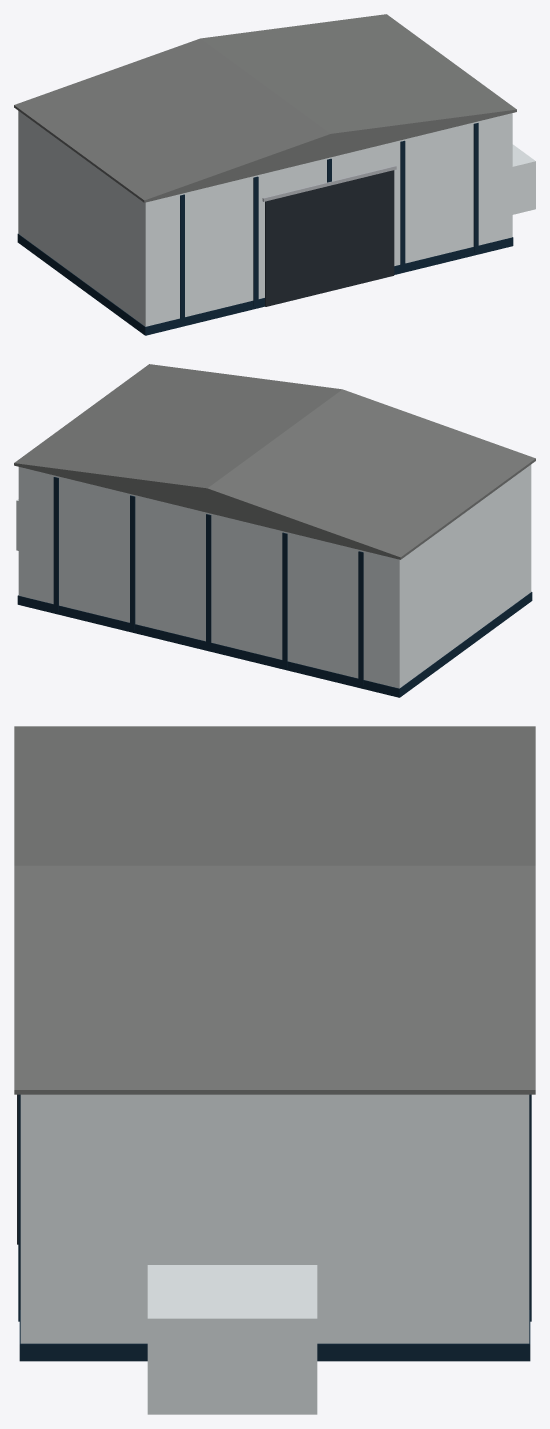
File: world_site_equatorial_hall.glb
3 renders of one model, top to bottom at view 1: azimuth 30°, elevation 25°; view 2: azimuth 150°, elevation 25°; view 3: azimuth 270°, elevation 25°, orthographic. The views are drawn at different scales.
Parts seen in each view (by area): view 1: world_site_equatorial_hall_mesh; view 2: world_site_equatorial_hall_mesh; view 3: world_site_equatorial_hall_mesh.
Part boxes in pixels (<box>): world_site_equatorial_hall_mesh: <box>14,14,535,335</box>; world_site_equatorial_hall_mesh: <box>14,364,535,697</box>; world_site_equatorial_hall_mesh: <box>14,726,535,1414</box>.
Bounding box in the file's own units: 46.3 × 16.45 × 24.6.
